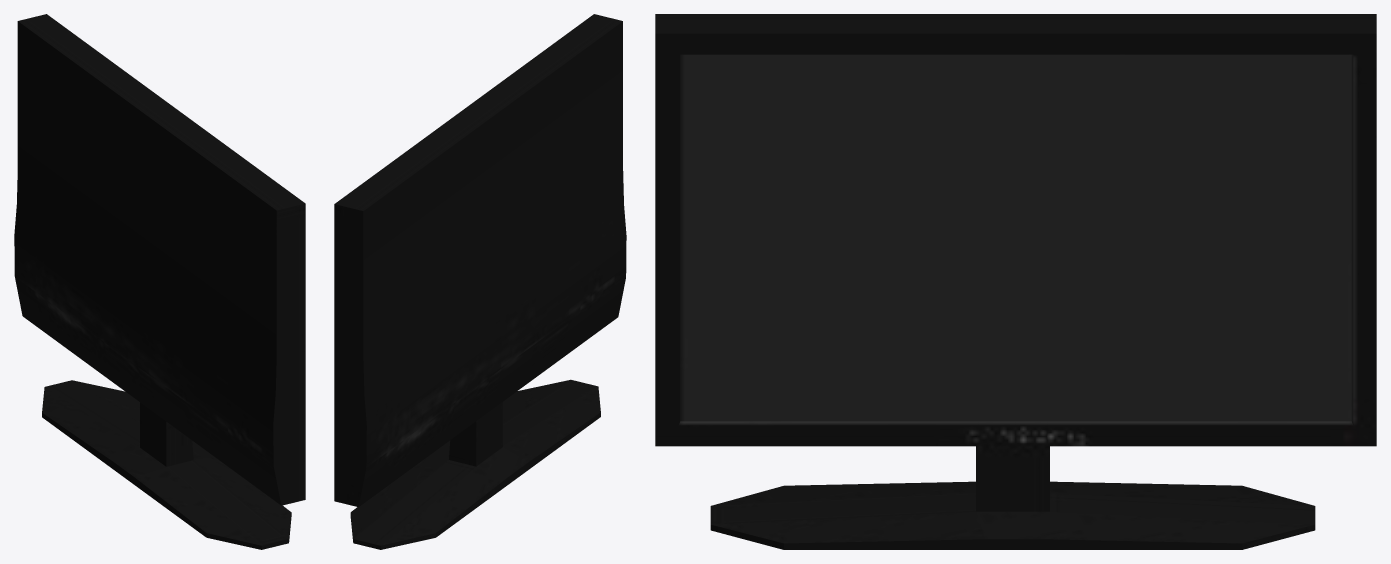
3 views of the same model, side by side, from view 1: azimuth 30°, elevation 25°; view 2: azimuth 150°, elevation 25°; view 3: azimuth 270°, elevation 25° (orthographic). The views are drawn at different scales.
Parts seen in each view (by area): view 1: tv; view 2: tv; view 3: tv.
Boxes of the visible parts, x1=… form: tv: x1=14, y1=14, x2=305, y2=549; tv: x1=334, y1=14, x2=626, y2=549; tv: x1=655, y1=14, x2=1376, y2=549.
Size of the model in its own units: 0.18 by 0.7189 by 0.95.
